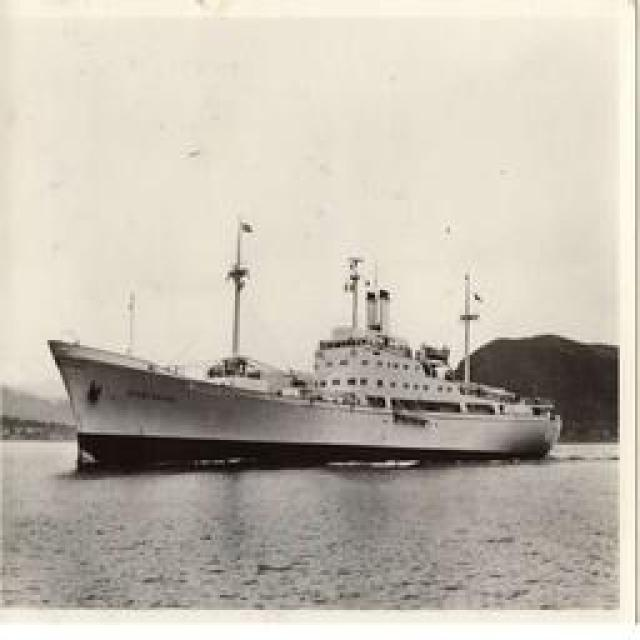Ship: (45, 240, 568, 468)
